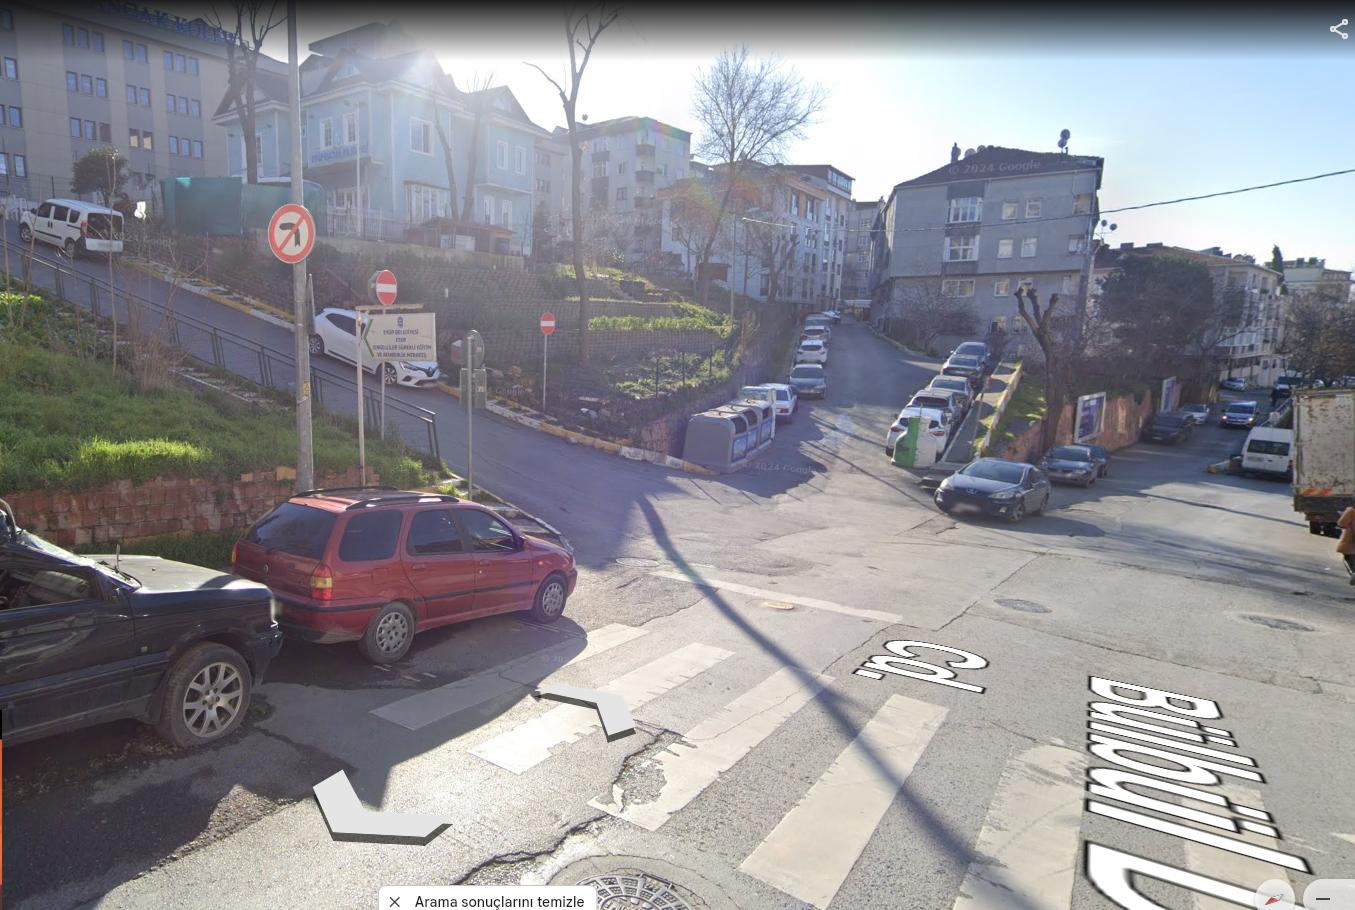leftturnsareforbidden: (269, 207, 313, 261)
